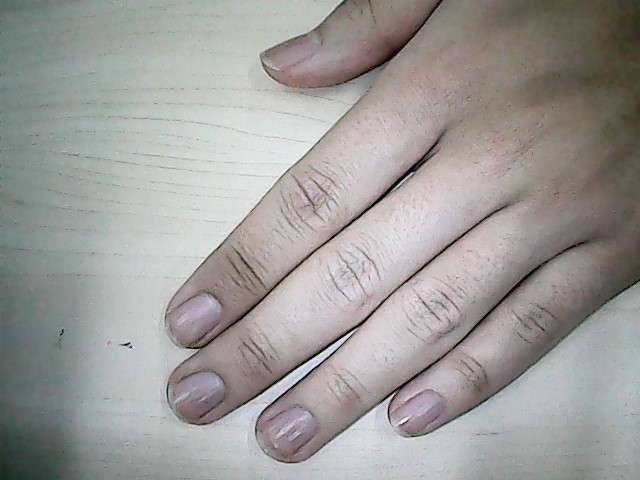nail: (166, 304, 221, 338), (390, 399, 444, 432), (171, 382, 223, 412), (266, 40, 320, 65), (265, 423, 307, 454)
